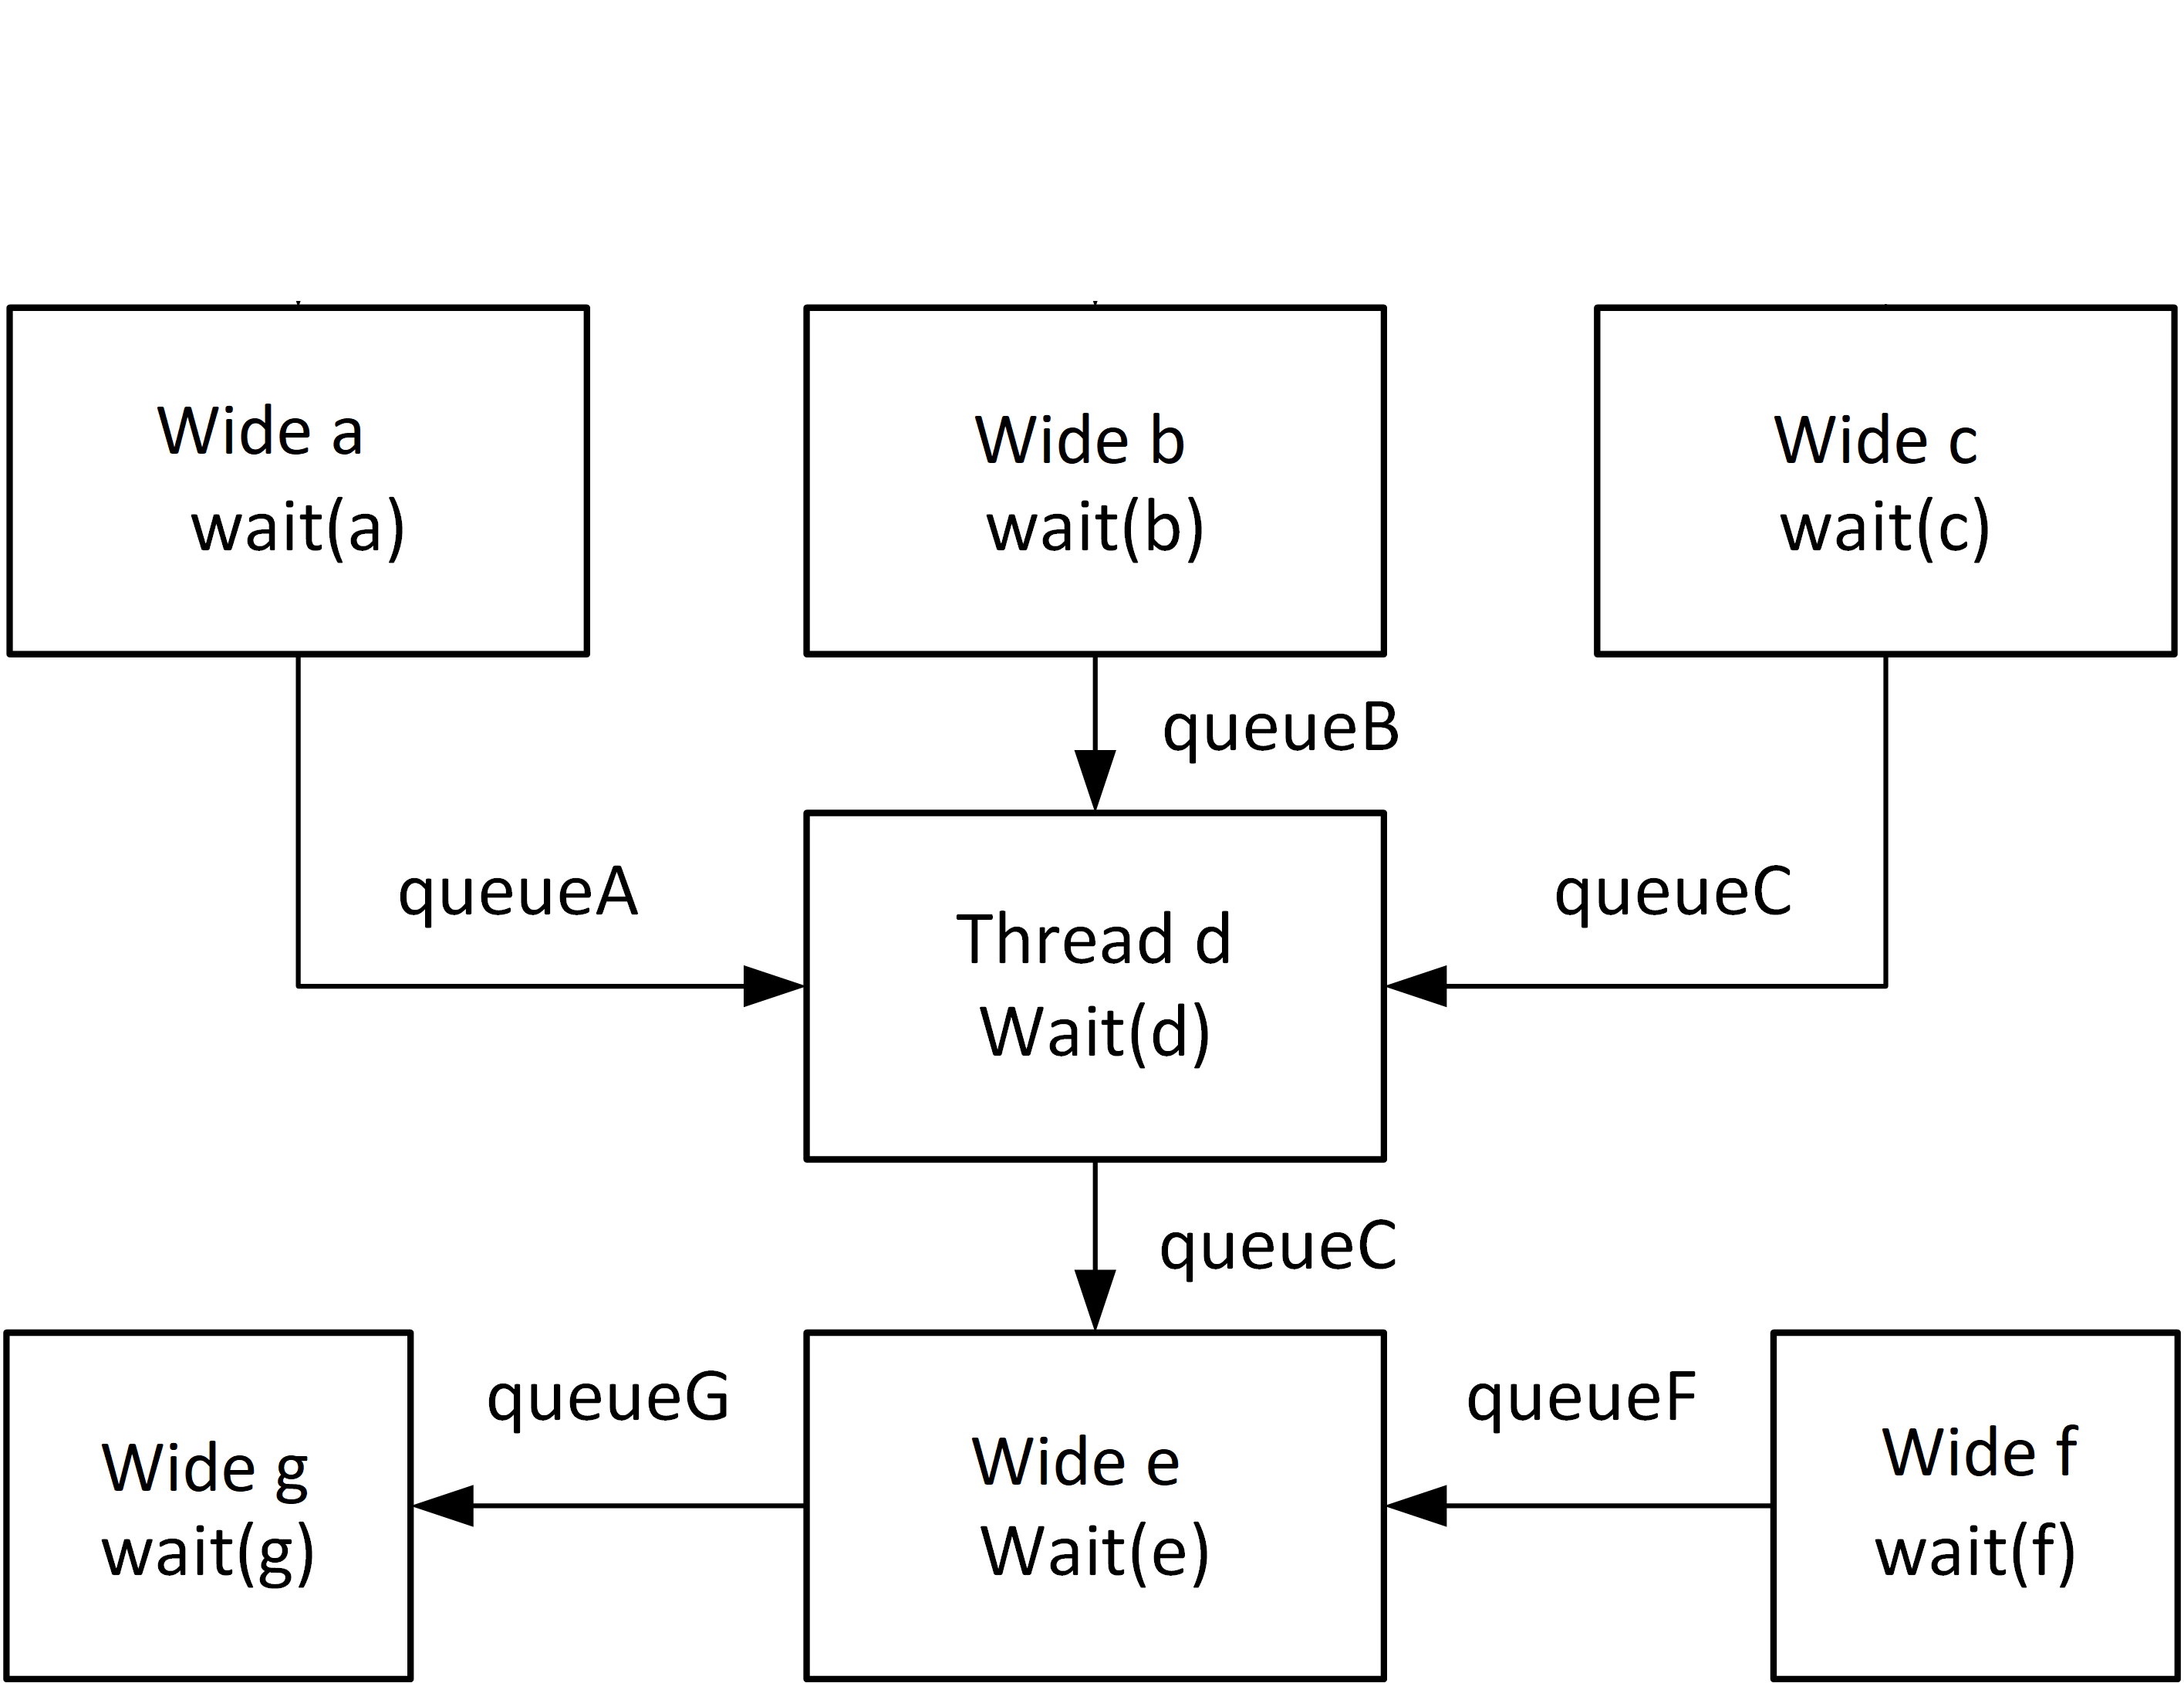arrow: (283, 645, 815, 1011), (1389, 645, 1898, 1017), (413, 1474, 813, 1536), (1384, 1480, 1783, 1526), (1067, 1160, 1124, 1331), (1067, 656, 1124, 810)
process: (1587, 293, 2184, 666), (0, 293, 599, 663), (797, 299, 1396, 668), (792, 806, 1394, 1170), (795, 1319, 1396, 1683), (4, 1322, 429, 1683), (1762, 1322, 2184, 1671)
text: (949, 905, 1232, 1070), (152, 394, 408, 569), (961, 1428, 1217, 1595), (965, 401, 1217, 566), (1868, 1418, 2089, 1593), (88, 1435, 320, 1598), (1771, 405, 1995, 569), (1157, 1209, 1412, 1292), (391, 859, 645, 939), (1548, 857, 1806, 932), (1157, 698, 1405, 774), (1461, 1363, 1700, 1441), (484, 1368, 740, 1439)
